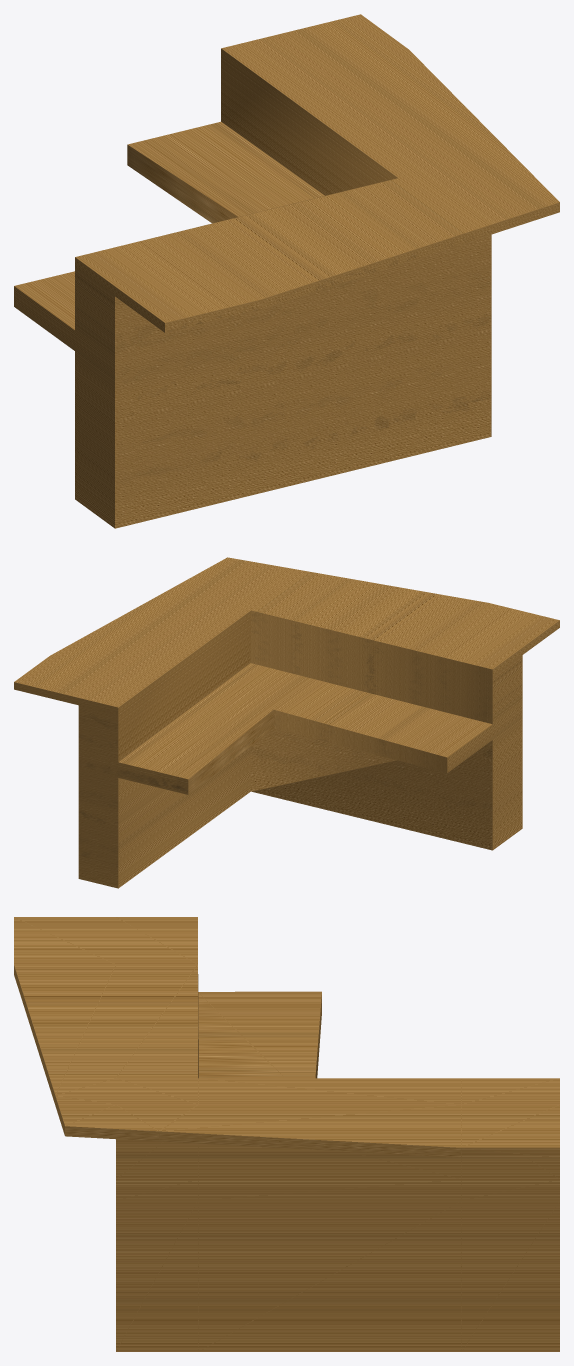
File: Office Table 2.fbx
3 views of the same model, one above another, from view 1: azimuth 30°, elevation 25°; view 2: azimuth 150°, elevation 25°; view 3: azimuth 270°, elevation 25° (orthographic). The views are drawn at different scales.
Parts seen in each view (by area): view 1: pCube2; view 2: pCube2; view 3: pCube2.
Part boxes in pixels (<box>): pCube2: <box>14,14,559,528</box>; pCube2: <box>14,557,559,888</box>; pCube2: <box>14,917,559,1351</box>.
Bounding box in the file's own units: 12.31 × 6.15 × 12.3.
Materials: 1 (1 with a texture image).
